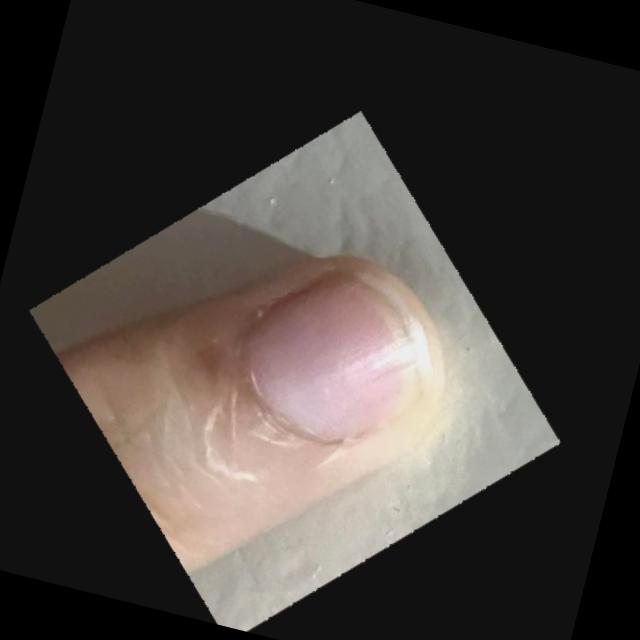Nail: (246, 260, 431, 436)
